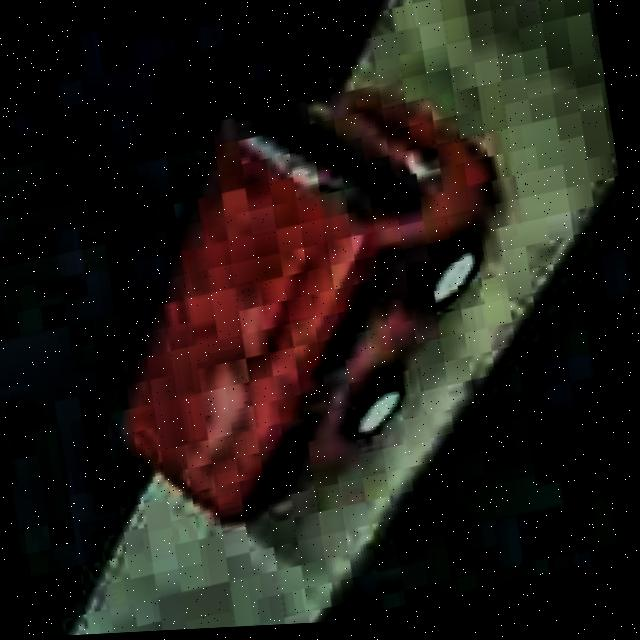bus: (61, 51, 551, 550)
